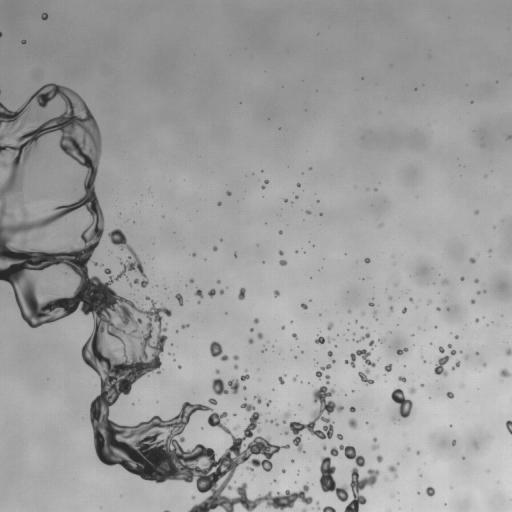droplet: (319, 446, 379, 511), (289, 386, 343, 451), (345, 349, 375, 367), (210, 341, 228, 361), (434, 355, 449, 376), (358, 368, 373, 385), (212, 378, 227, 395), (227, 379, 239, 393), (500, 368, 511, 378), (388, 465, 397, 477), (348, 418, 357, 428), (426, 486, 434, 496), (238, 288, 245, 299), (195, 289, 203, 297), (241, 372, 249, 380), (208, 398, 217, 405), (208, 289, 215, 297), (384, 364, 391, 372), (254, 395, 261, 403), (41, 13, 47, 20), (300, 303, 307, 309), (438, 346, 444, 353), (278, 377, 284, 384), (398, 376, 405, 382), (446, 392, 453, 398), (376, 455, 382, 462), (469, 257, 475, 263), (327, 323, 333, 329), (257, 333, 263, 339), (349, 406, 355, 412), (279, 260, 286, 265), (506, 348, 511, 355), (364, 258, 370, 263), (274, 290, 279, 296), (292, 333, 297, 339), (369, 340, 374, 346), (409, 388, 415, 393), (372, 444, 378, 449), (181, 324, 188, 328), (278, 250, 283, 255), (337, 434, 342, 439), (328, 351, 332, 357), (213, 246, 217, 251), (402, 308, 406, 313), (254, 318, 258, 323), (248, 339, 253, 343), (233, 355, 238, 359), (266, 400, 270, 405), (306, 210, 310, 214), (278, 230, 282, 234), (189, 279, 193, 283), (369, 302, 373, 306), (379, 338, 383, 342), (301, 508, 306, 511), (21, 40, 25, 43), (261, 185, 264, 189), (227, 191, 230, 195), (217, 202, 221, 205), (93, 262, 97, 265), (220, 290, 223, 294), (146, 296, 150, 299), (471, 299, 474, 303), (390, 306, 393, 310), (234, 365, 238, 368), (326, 375, 329, 379), (293, 376, 296, 380), (234, 426, 238, 429), (373, 438, 377, 441), (452, 441, 455, 445), (323, 445, 326, 449), (0, 136, 3, 139), (265, 180, 268, 183), (297, 183, 300, 186), (475, 211, 478, 214), (192, 253, 195, 256), (461, 277, 464, 280), (443, 279, 446, 282), (475, 279, 478, 282), (250, 328, 253, 331), (455, 335, 458, 338), (216, 370, 219, 373), (285, 431, 288, 434), (509, 135, 511, 138), (234, 253, 236, 256), (217, 280, 219, 283), (477, 291, 479, 294), (409, 298, 412, 300), (437, 307, 439, 310), (374, 311, 376, 314), (475, 319, 478, 321), (281, 326, 284, 328), (332, 360, 335, 362), (178, 366, 181, 368), (326, 381, 328, 384), (243, 387, 246, 389), (417, 451, 419, 454), (291, 460, 294, 462), (282, 470, 285, 472), (284, 199, 286, 201), (361, 326, 363, 328), (476, 352, 478, 354), (484, 363, 486, 365), (307, 468, 309, 470), (192, 496, 194, 498)
ligament: (0, 83, 309, 511), (391, 388, 412, 417), (316, 364, 331, 378), (315, 336, 331, 344), (358, 333, 369, 342), (175, 293, 183, 305), (448, 344, 456, 355), (396, 348, 407, 355), (451, 361, 460, 369), (506, 420, 511, 434), (283, 412, 289, 423), (0, 207, 5, 220), (323, 506, 335, 511), (316, 502, 319, 508), (268, 420, 274, 422), (164, 510, 169, 511), (0, 32, 1, 36)
